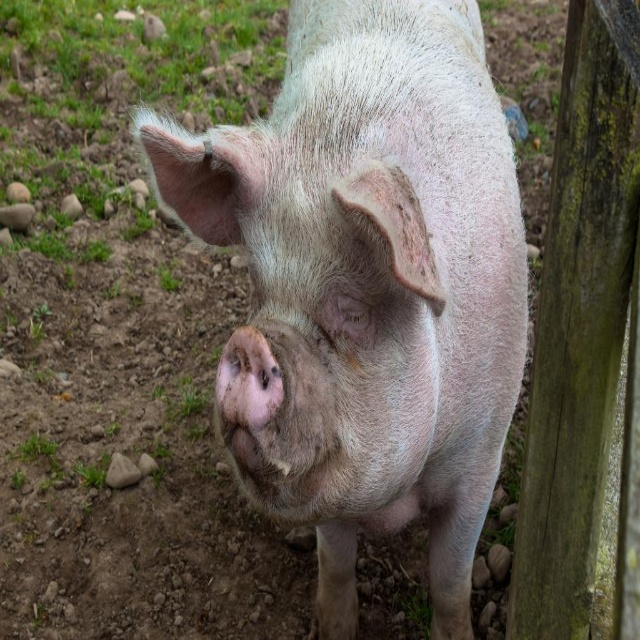Pig: (128, 0, 534, 639)
